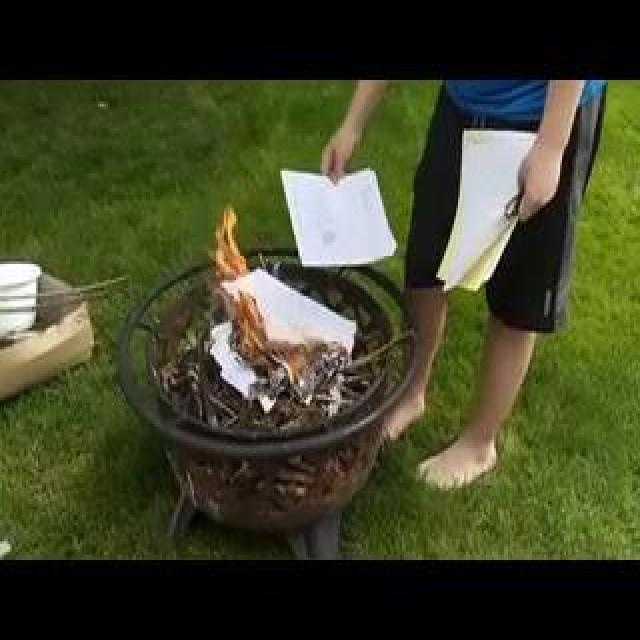Fire: (62, 186, 241, 282)
